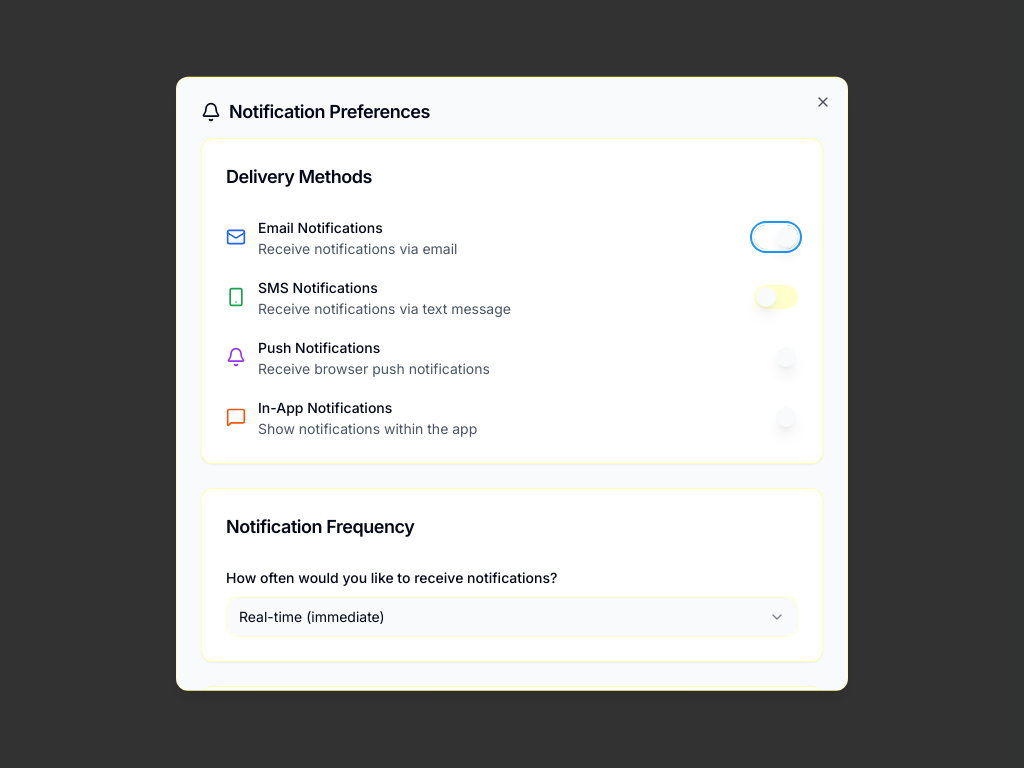
Test: NotificationCenter › saves notification settings
# Change some settings
Click the switch named "SMS Notifications" in the row of "Receive notifications via text message" at (776,297), box [754,285,798,309]
(page scrolled)
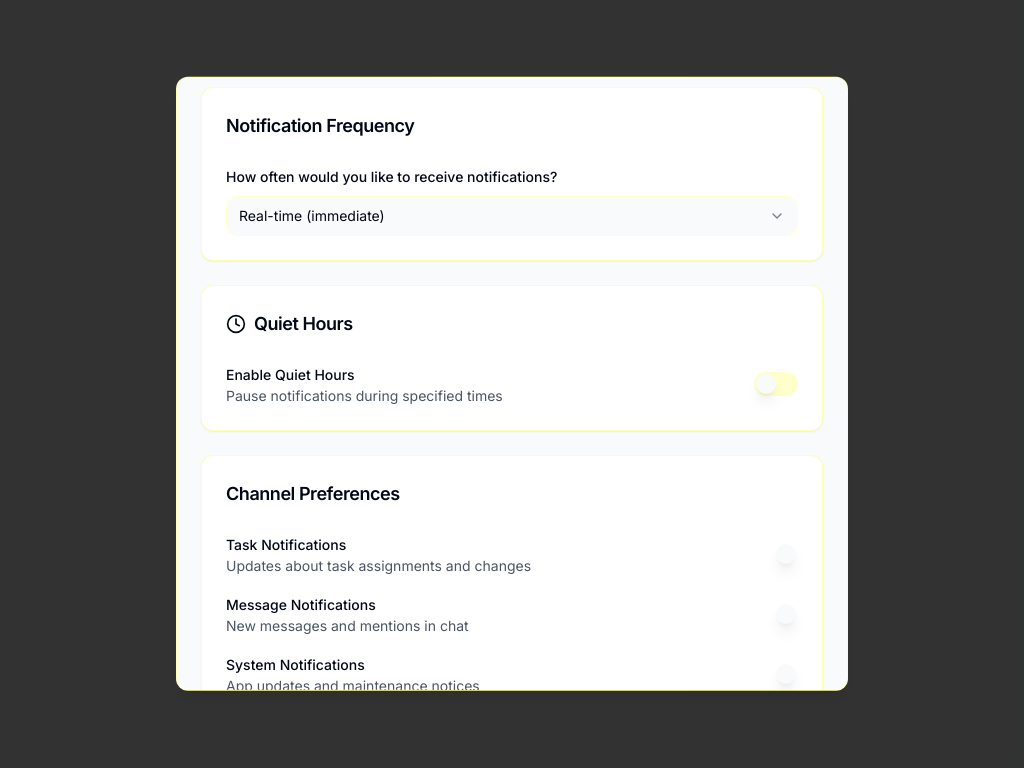
Click the switch with test id "quiet-toggle" at (776,384), box [754,372,798,396]
(page scrolled)
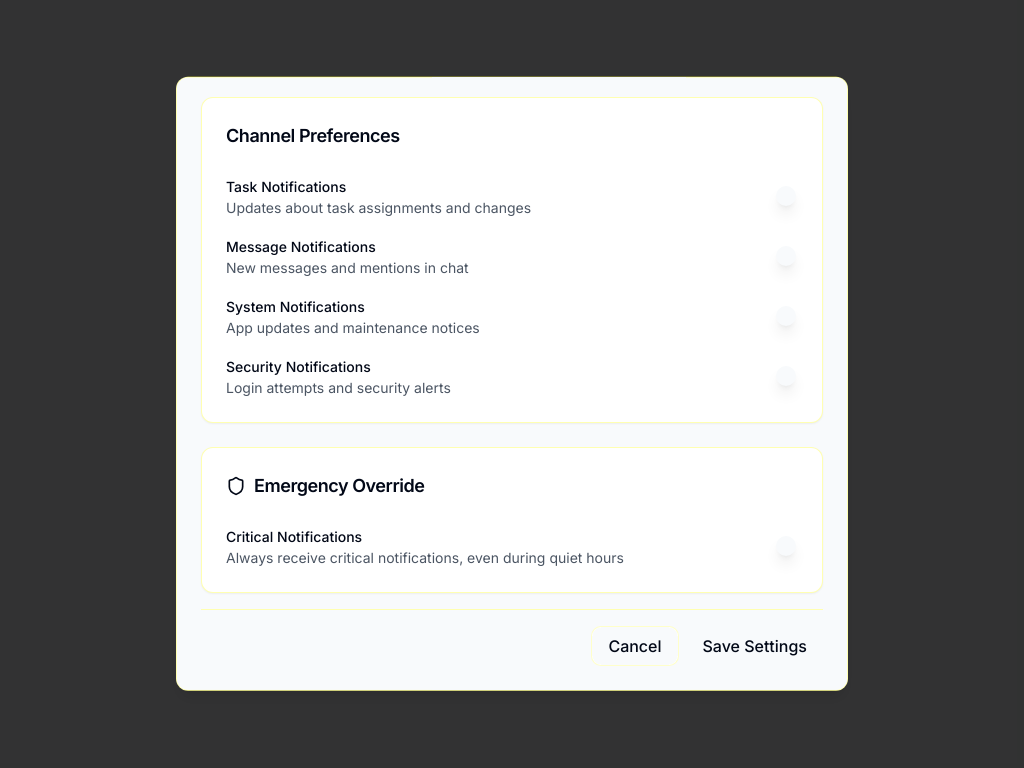
# Save settings
Click the button with test id "notification-save" at (755,646), box [686,626,823,666]
(page scrolled)
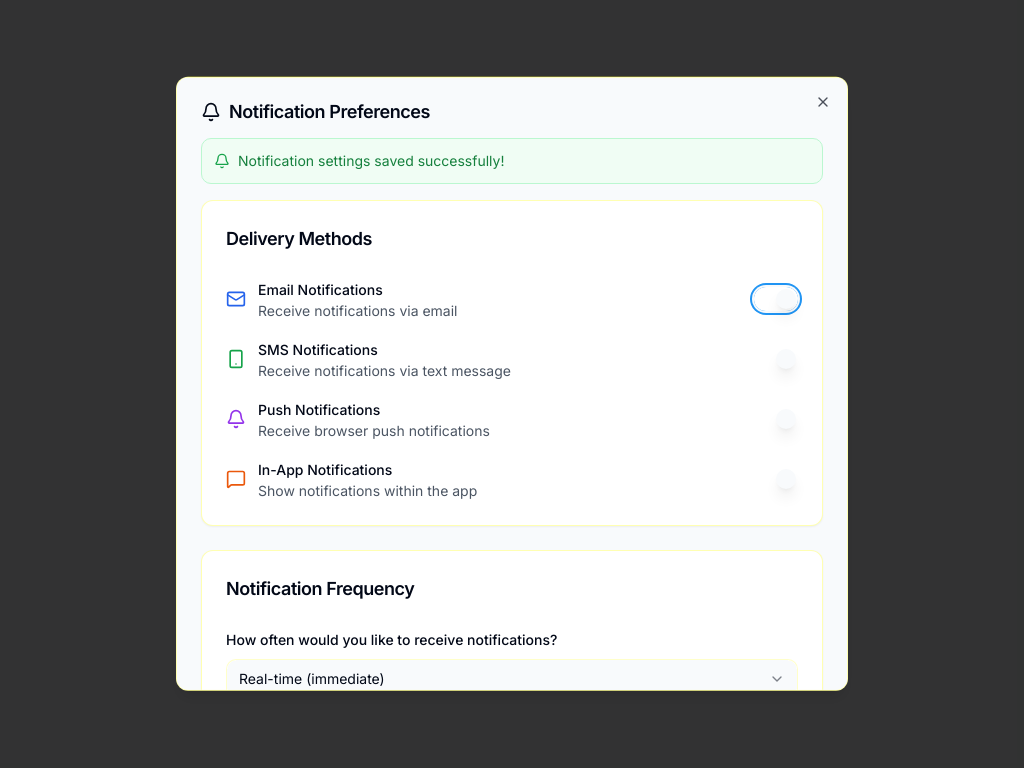
Result: the text "Notification settings saved successfully!" is shown at [238,151,504,171]
